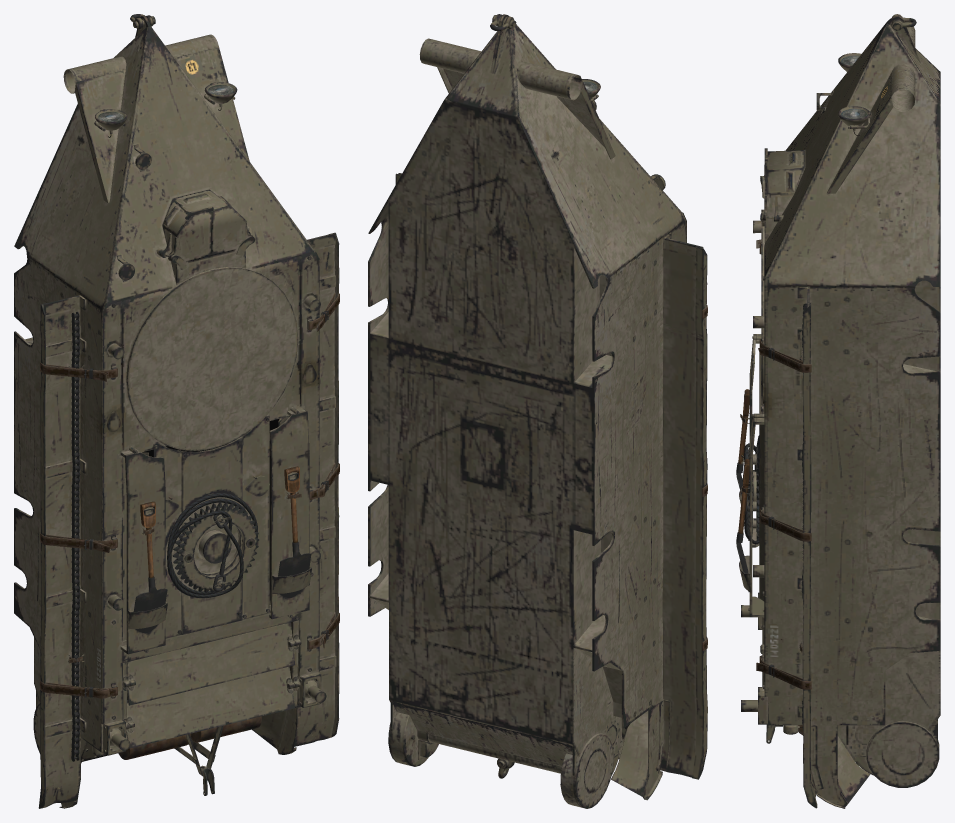
The model's file is Hull.glb.
3 views of the same model, side by side, from view 1: azimuth 30°, elevation 25°; view 2: azimuth 150°, elevation 25°; view 3: azimuth 270°, elevation 25° (orthographic). The views are drawn at different scales.
Visible parts, largest first — view 1: set_0_group_0; view 2: set_0_group_0; view 3: set_0_group_0.
Part boxes in pixels (box(x1,y1,x2,y2)): set_0_group_0: box(14, 14, 339, 808); set_0_group_0: box(368, 14, 707, 808); set_0_group_0: box(736, 14, 940, 808).
Bounding box in the file's own units: 2.21 × 5.3 × 1.33.
Materials: 1 (1 with a texture image).
